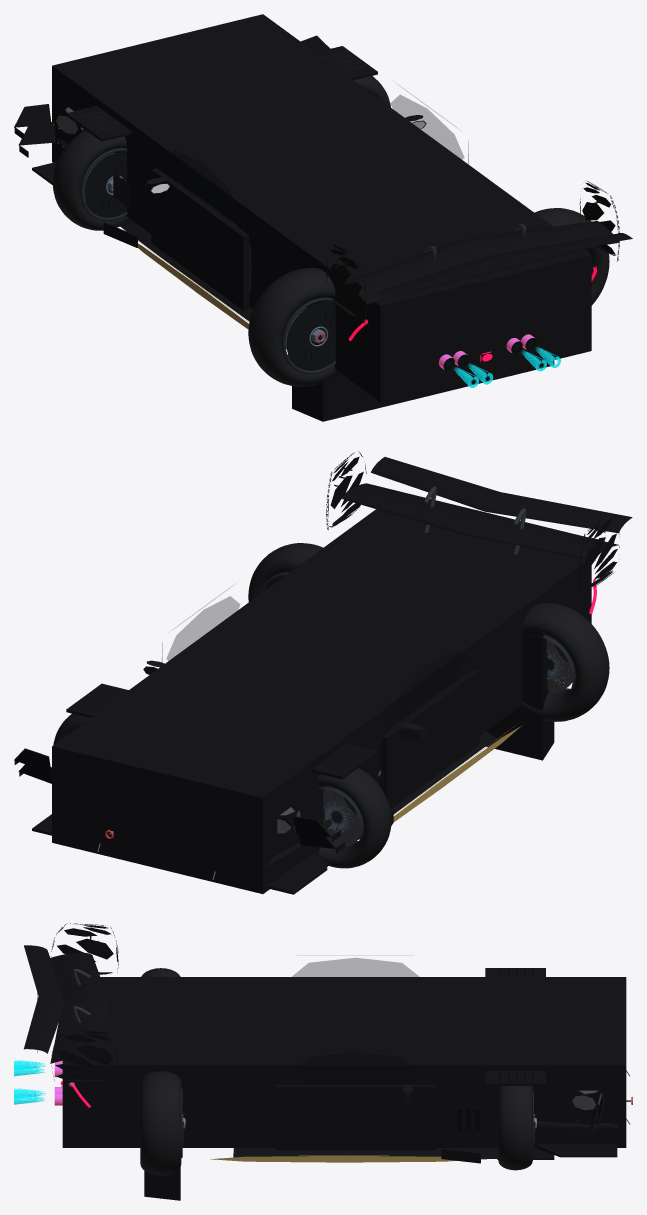
File: vehicle_phantom_forged_carbon_gt.glb
3 renders of one model, top to bottom at view 1: azimuth 30°, elevation 25°; view 2: azimuth 150°, elevation 25°; view 3: azimuth 270°, elevation 25°, orthographic. The views are drawn at different scales.
Parts seen in each view (by area): view 1: ACTIVE_GURNEY_FLAP_LIP, MICHELIN_CUP_2R_TRACK_TIRE.002, DOOR_CONTENT_MESHES, MICHELIN_CUP_2R_TRACK_TIRE, AERO_TURBOFAN_COVER.002, AERODYNAMIC_ENDPLATE_ASSEMBLY, AERO_TURBOFAN_COVER, QUAD_EXHAUST_INCONEL_TITANIUM_ASSEMBLY, MICHELIN_CUP_2R_TRACK_TIRE.003, SEALING_SKIRT_LEFT, FORGED_MAGNESIUM_RIM.002, FORGED_MAGNESIUM_RIM; view 2: ACTIVE_GURNEY_FLAP_LIP, MICHELIN_CUP_2R_TRACK_TIRE.002, DOOR_CONTENT_MESHES, MICHELIN_CUP_2R_TRACK_TIRE, AERODYNAMIC_ENDPLATE_ASSEMBLY, MICHELIN_CUP_2R_TRACK_TIRE.003, FLOATING_CSIC_BRAKE_ROTOR, SEALING_SKIRT_LEFT, FLOATING_CSIC_BRAKE_ROTOR.002, FORGED_MAGNESIUM_RIM; view 3: ACTIVE_GURNEY_FLAP_LIP, DOOR_CONTENT_MESHES, MICHELIN_CUP_2R_TRACK_TIRE.003, AERODYNAMIC_ENDPLATE_ASSEMBLY, MICHELIN_CUP_2R_TRACK_TIRE.001, SEALING_SKIRT_LEFT, QUAD_EXHAUST_INCONEL_TITANIUM_ASSEMBLY.
Boxes of the visible parts, box(x1,y1,x2,y2) form: ACTIVE_GURNEY_FLAP_LIP: box(14, 14, 632, 421); MICHELIN_CUP_2R_TRACK_TIRE.002: box(248, 268, 338, 386); DOOR_CONTENT_MESHES: box(142, 85, 468, 293); MICHELIN_CUP_2R_TRACK_TIRE: box(52, 130, 130, 230); AERO_TURBOFAN_COVER.002: box(286, 302, 336, 370); AERODYNAMIC_ENDPLATE_ASSEMBLY: box(326, 181, 619, 323); AERO_TURBOFAN_COVER: box(84, 152, 128, 217); QUAD_EXHAUST_INCONEL_TITANIUM_ASSEMBLY: box(438, 334, 560, 387); MICHELIN_CUP_2R_TRACK_TIRE.003: box(534, 208, 609, 305); SEALING_SKIRT_LEFT: box(138, 241, 286, 352); FORGED_MAGNESIUM_RIM.002: box(282, 297, 335, 374); FORGED_MAGNESIUM_RIM: box(80, 148, 127, 221); ACTIVE_GURNEY_FLAP_LIP: box(14, 457, 632, 894); MICHELIN_CUP_2R_TRACK_TIRE.002: box(520, 603, 609, 721); DOOR_CONTENT_MESHES: box(143, 587, 465, 787); MICHELIN_CUP_2R_TRACK_TIRE: box(317, 768, 391, 868); AERODYNAMIC_ENDPLATE_ASSEMBLY: box(326, 451, 619, 591); MICHELIN_CUP_2R_TRACK_TIRE.003: box(248, 543, 322, 601); FLOATING_CSIC_BRAKE_ROTOR: box(323, 789, 360, 846); SEALING_SKIRT_LEFT: box(393, 726, 521, 822); FLOATING_CSIC_BRAKE_ROTOR.002: box(546, 639, 572, 692); FORGED_MAGNESIUM_RIM: box(318, 787, 363, 850); ACTIVE_GURNEY_FLAP_LIP: box(24, 945, 626, 1200); DOOR_CONTENT_MESHES: box(292, 958, 418, 1102); MICHELIN_CUP_2R_TRACK_TIRE.003: box(140, 1071, 181, 1175); AERODYNAMIC_ENDPLATE_ASSEMBLY: box(51, 923, 118, 1082); MICHELIN_CUP_2R_TRACK_TIRE.001: box(498, 1086, 532, 1170); SEALING_SKIRT_LEFT: box(210, 1155, 456, 1162); QUAD_EXHAUST_INCONEL_TITANIUM_ASSEMBLY: box(14, 1059, 62, 1105).
Bounding box in the file's own units: 2.75 × 1.5 × 4.89.
